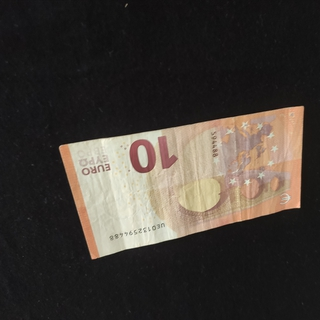10EUROBack: (58, 105, 305, 259)
